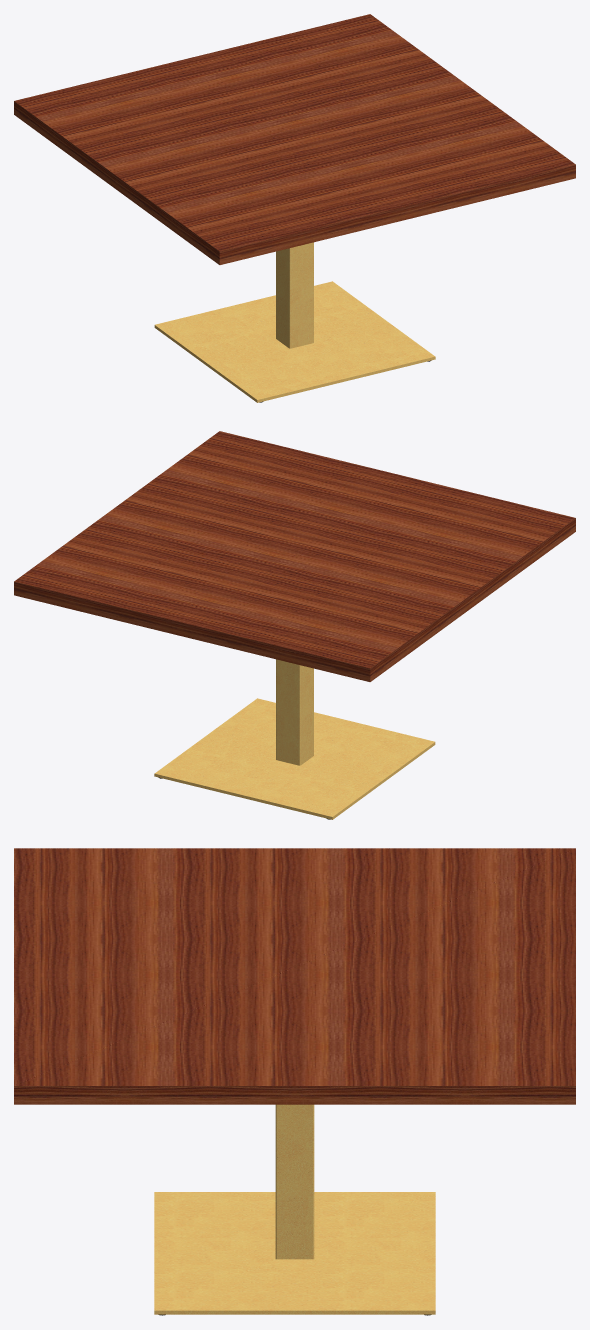
File: Table 2.obj
The picture shows the model from 3 angles, top to bottom: view 1: azimuth 30°, elevation 25°; view 2: azimuth 150°, elevation 25°; view 3: azimuth 270°, elevation 25°; orthographic projection. The views are drawn at different scales.
Parts seen in each view (by area): view 1: Object02, Object04; view 2: Object02, Object04; view 3: Object02, Object04.
Boxes of the visible parts, left/top/right/bottom form: Object02: left=14, top=14, right=575, bottom=264; Object04: left=154, top=242, right=435, bottom=402; Object02: left=14, top=431, right=575, bottom=681; Object04: left=154, top=659, right=435, bottom=819; Object02: left=14, top=848, right=575, bottom=1104; Object04: left=154, top=1104, right=435, bottom=1314.
Size of the model in its own units: 3302 by 1880 by 3302.
